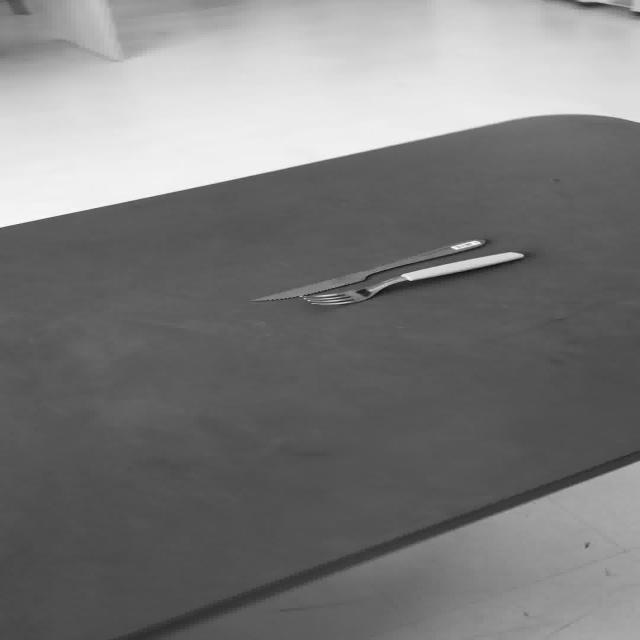fork: (299, 250, 524, 305)
knife fork: (249, 237, 486, 302)
